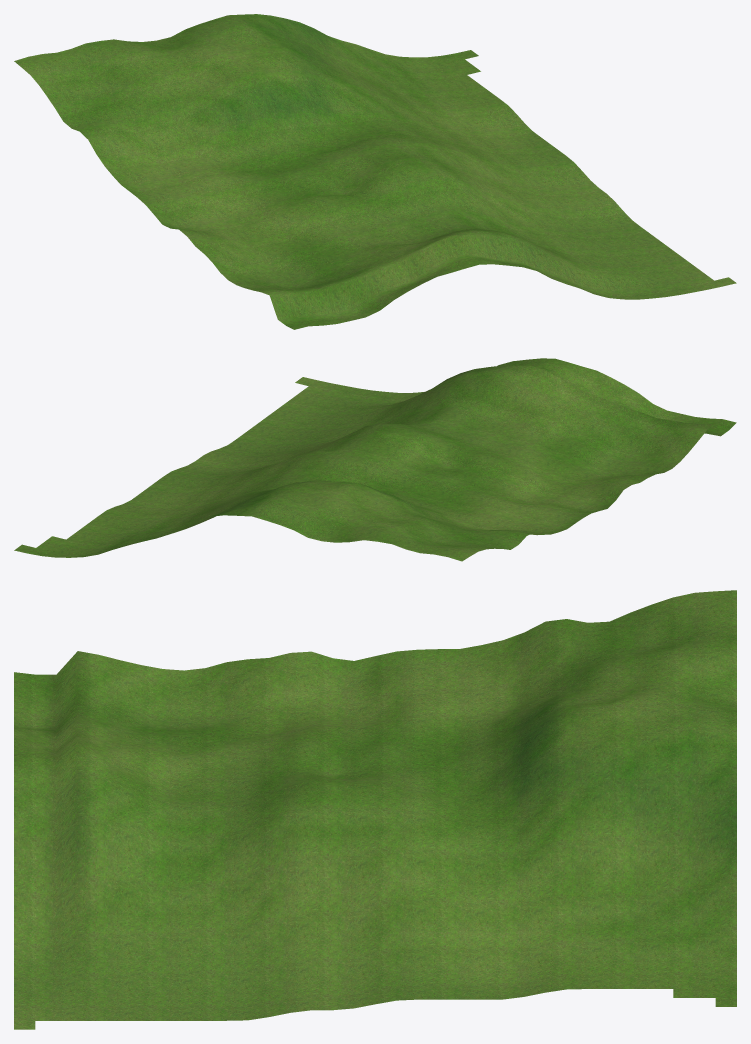
Rendered from terrain-west.glb.
The picture shows the model from 3 angles, top to bottom: view 1: azimuth 30°, elevation 25°; view 2: azimuth 150°, elevation 25°; view 3: azimuth 270°, elevation 25°; orthographic projection. The views are drawn at different scales.
Parts seen in each view (by area): view 1: terrain_west_mesh; view 2: terrain_west_mesh; view 3: terrain_west_mesh.
Part boxes in pixels (bbox=[...]): terrain_west_mesh: bbox=[14, 14, 736, 329]; terrain_west_mesh: bbox=[14, 358, 736, 561]; terrain_west_mesh: bbox=[14, 590, 736, 1029].
Bounding box in the file's own units: 128 × 33.67 × 136.
1 material, 1 textured.
